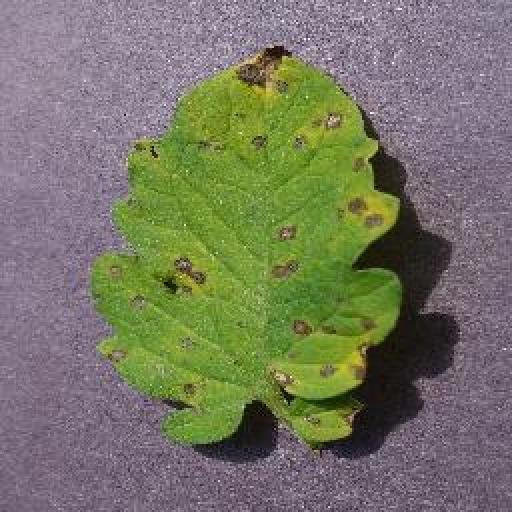Septoria: (90, 44, 403, 448)
